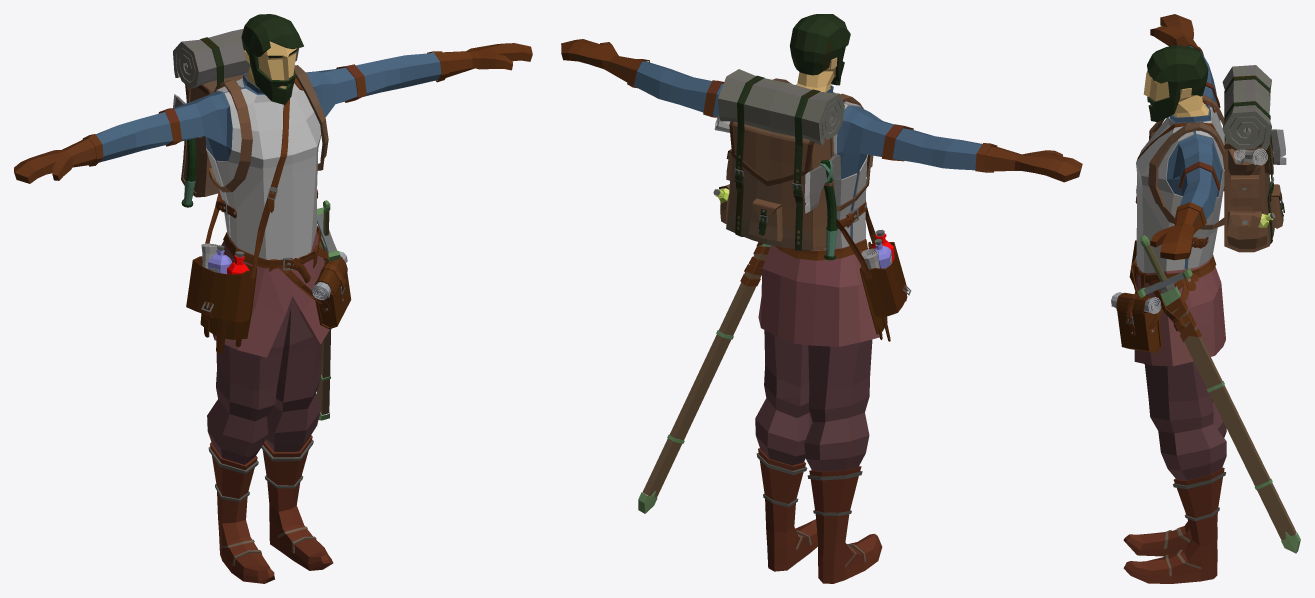
The model's file is explorador.glb.
3 views of the same model, side by side, from view 1: azimuth 30°, elevation 25°; view 2: azimuth 150°, elevation 25°; view 3: azimuth 270°, elevation 25° (orthographic). The views are drawn at different scales.
Parts seen in each view (by area): view 1: MainMesh, Backpack.001, Shoulder bag, Hair/Beard, Belt bag, Belt, Sword-Sheet, Sword; view 2: MainMesh, Backpack.001, Sword-Sheet, Shoulder bag, Hair/Beard, Belt; view 3: MainMesh, Backpack.001, Sword-Sheet, Hair/Beard, Belt bag, Belt, Sword, Shoulder bag.
Boxes of the visible parts, left/top/right/bottom form: MainMesh: left=14, top=41, right=532, bottom=583; Backpack.001: left=173, top=29, right=328, bottom=207; Shoulder bag: left=186, top=99, right=289, bottom=353; Hair/Beard: left=241, top=14, right=303, bottom=104; Belt bag: left=269, top=233, right=351, bottom=329; Belt: left=223, top=225, right=328, bottom=282; Sword-Sheet: left=316, top=234, right=331, bottom=420; Sword: left=317, top=200, right=340, bottom=261; MainMesh: left=561, top=39, right=1082, bottom=583; Backpack.001: left=713, top=69, right=873, bottom=260; Sword-Sheet: left=638, top=243, right=770, bottom=513; Shoulder bag: left=836, top=200, right=911, bottom=341; Hair/Beard: left=790, top=14, right=850, bottom=85; Belt: left=740, top=239, right=867, bottom=286; MainMesh: left=1123, top=14, right=1226, bottom=583; Backpack.001: left=1148, top=65, right=1286, bottom=252; Sword-Sheet: left=1160, top=286, right=1300, bottom=553; Hair/Beard: left=1147, top=45, right=1208, bottom=122; Belt bag: left=1111, top=274, right=1198, bottom=352; Belt: left=1131, top=255, right=1216, bottom=341; Sword: left=1137, top=235, right=1192, bottom=297; Shoulder bag: left=1129, top=122, right=1224, bottom=289.
Size of the model in its own units: 1.77 by 1.78 by 0.5922.
1 material, 1 textured.
